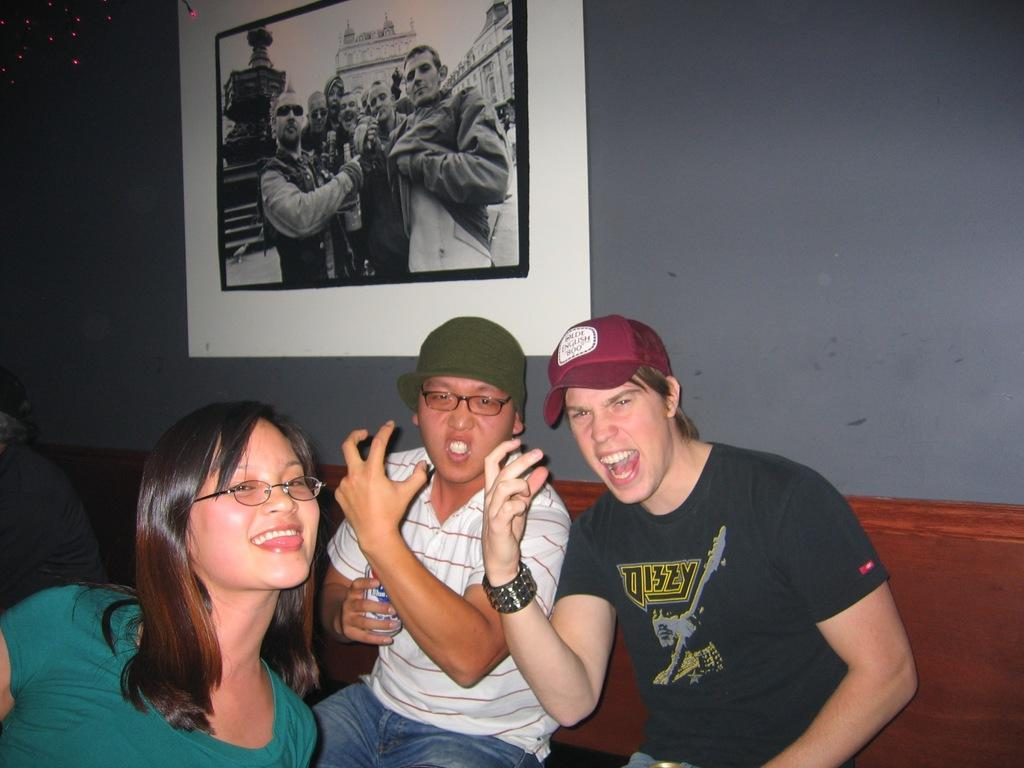Hat: (546, 314, 670, 426), (397, 318, 524, 421)
